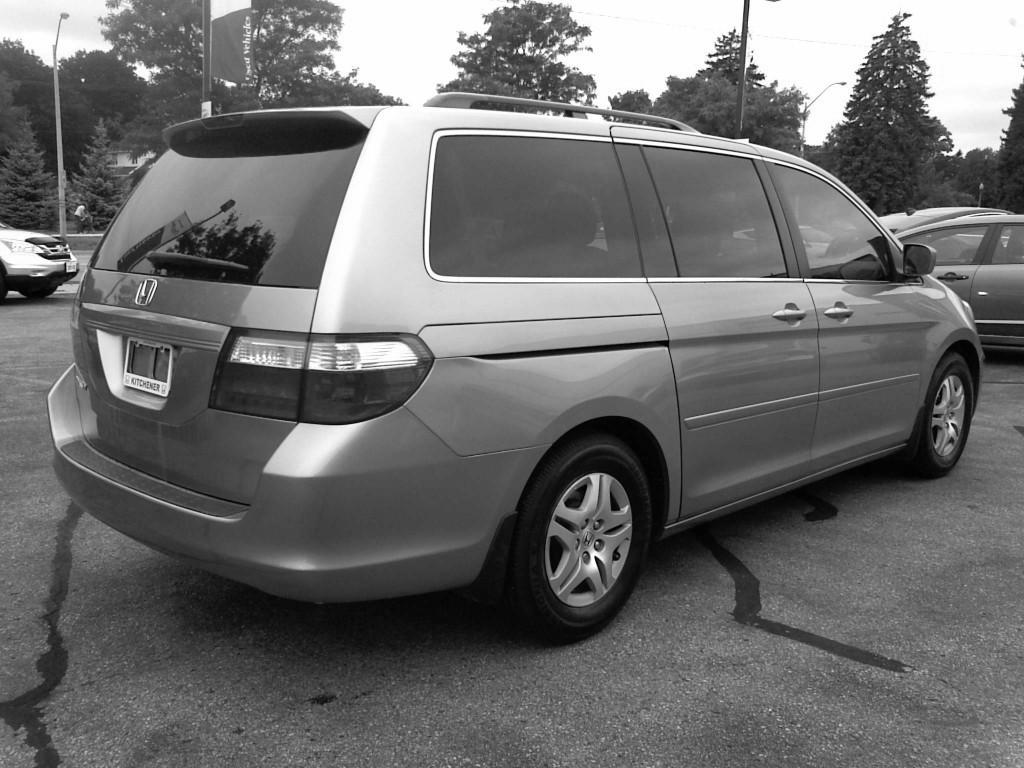car: (39, 84, 994, 656)
